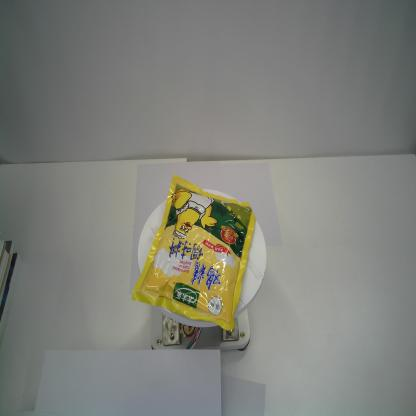Seasoner: (128, 171, 258, 332)
